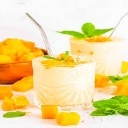mango: (1, 38, 45, 66)
